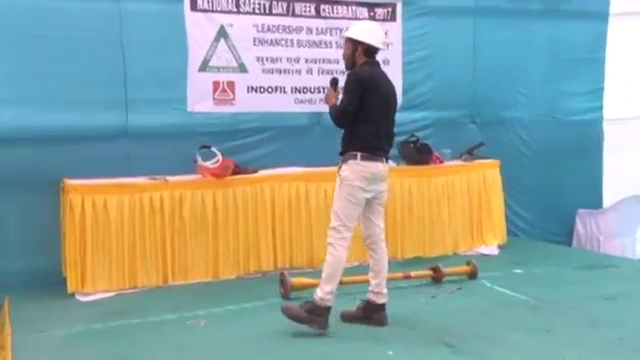helmet: (341, 19, 384, 52)
helmet_on: (340, 19, 387, 73)
person: (276, 18, 392, 338)
